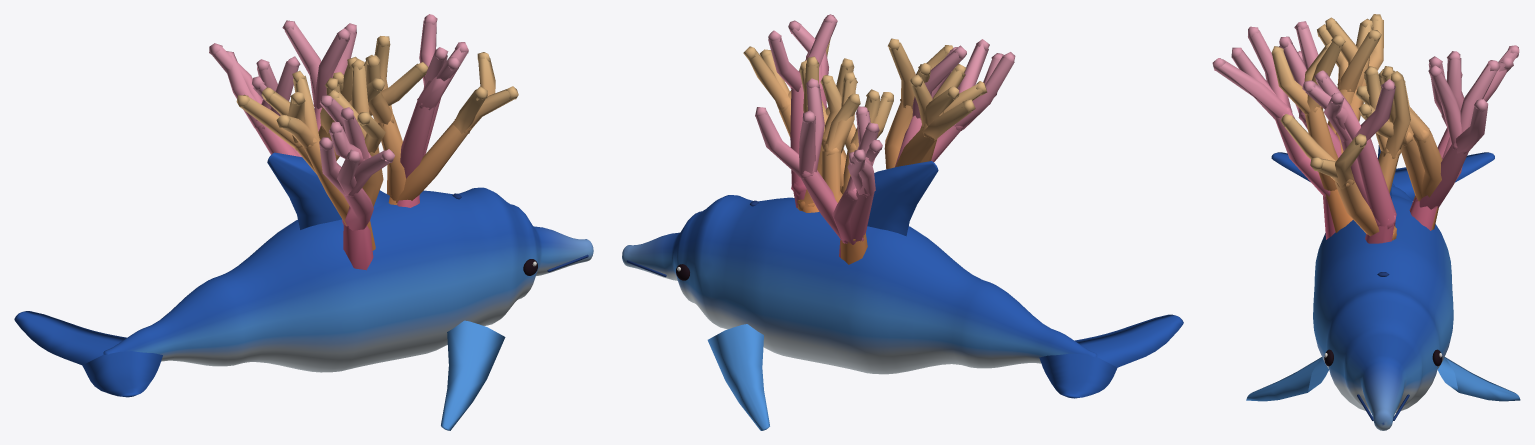
File: sea.lite.glb
3 views of the same model, side by side, from view 1: azimuth 30°, elevation 25°; view 2: azimuth 150°, elevation 25°; view 3: azimuth 270°, elevation 25° (orthographic). The views are drawn at different scales.
Visible parts, largest first — view 1: Dolphin, CoralPink, CoralOrange; view 2: Dolphin, CoralPink, CoralOrange; view 3: Dolphin, CoralPink, CoralOrange.
Boxes of the visible parts, x1=… form: Dolphin: x1=14, y1=152, x2=593, y2=430; CoralPink: x1=209, y1=14, x2=468, y2=270; CoralOrange: x1=236, y1=36, x2=518, y2=250; Dolphin: x1=622, y1=161, x2=1183, y2=430; CoralPink: x1=755, y1=14, x2=1015, y2=257; CoralOrange: x1=743, y1=38, x2=987, y2=264; Dolphin: x1=1246, y1=145, x2=1520, y2=430; CoralPink: x1=1212, y1=21, x2=1519, y2=243; CoralOrange: x1=1271, y1=14, x2=1442, y2=240.
Bounding box in the file's own units: 2.86 × 1.83 × 1.47.
